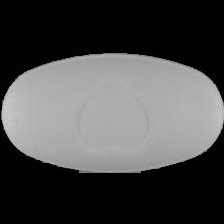63629-4159: (0, 0, 224, 224)
